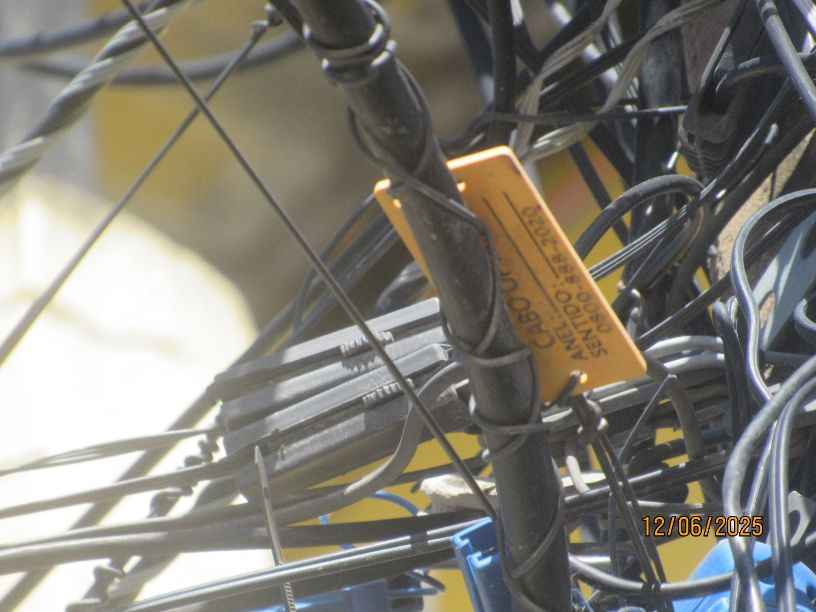fibra_optica: (353, 136, 650, 454)
